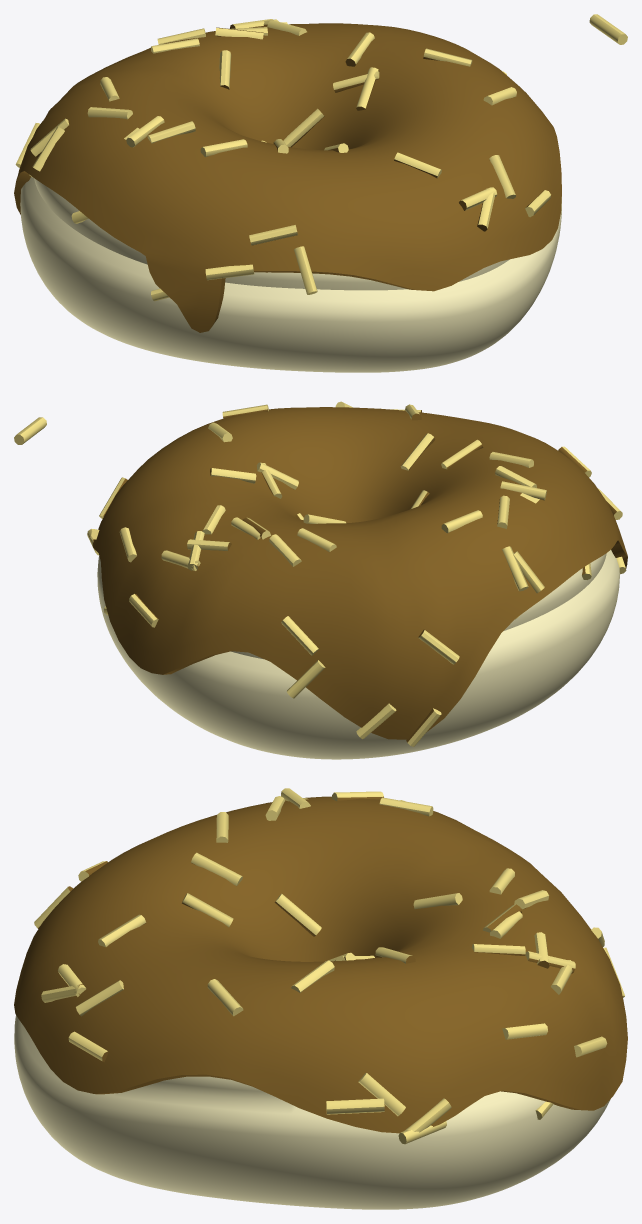
Rendered from donut_an8.glb.
3 renders of one model, top to bottom at view 1: azimuth 30°, elevation 25°; view 2: azimuth 150°, elevation 25°; view 3: azimuth 270°, elevation 25°, orthographic. The views are drawn at different scales.
Parts seen in each view (by area): view 1: donut_an8; view 2: donut_an8; view 3: donut_an8.
Boxes of the visible parts, <box> form: donut_an8: <box>14,14,627,372</box>; donut_an8: <box>14,401,627,759</box>; donut_an8: <box>14,788,627,1209</box>.
Bounding box in the file's own units: 11.7 × 4.74 × 9.81.
